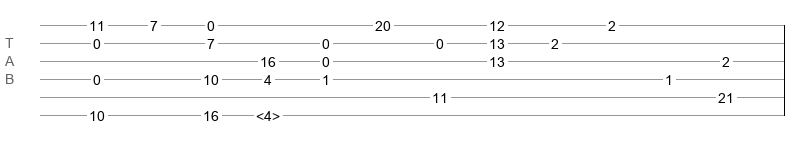0: (93, 36, 101, 46), (93, 72, 101, 82), (207, 18, 215, 28), (322, 36, 330, 46), (322, 54, 330, 64), (436, 36, 444, 46)
1: (322, 72, 330, 82), (665, 72, 673, 82)
10: (89, 108, 105, 118), (203, 72, 219, 82)
11: (89, 18, 105, 28), (432, 90, 448, 100)
12: (489, 18, 505, 28)
13: (489, 54, 505, 64), (489, 36, 505, 46)
16: (203, 108, 219, 118), (260, 54, 276, 64)
2: (551, 36, 559, 46), (608, 18, 616, 28), (722, 54, 730, 64)
20: (375, 18, 391, 28)
21: (718, 90, 734, 100)
4: (264, 72, 272, 82)
7: (150, 18, 158, 28), (207, 36, 215, 46)
harmonic: (256, 108, 280, 118)
